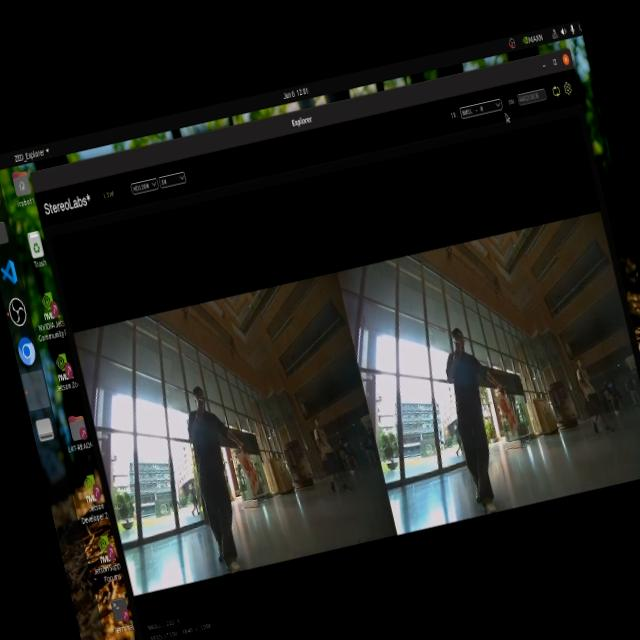red: (231, 442, 266, 488), (496, 392, 520, 432)
